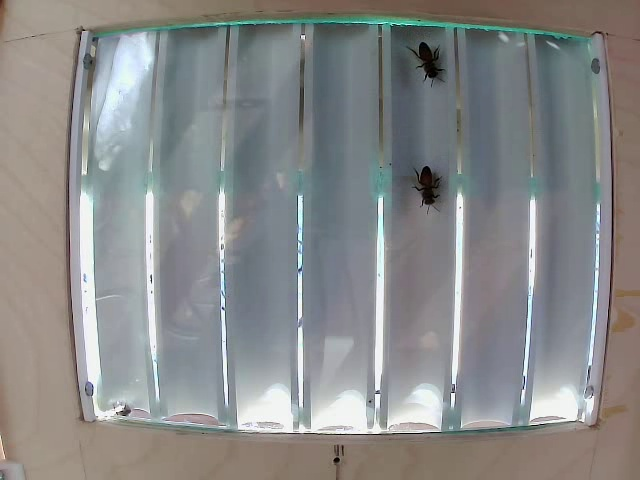bee: (404, 45, 446, 101), (411, 159, 441, 219)
